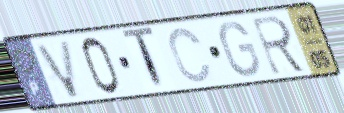0: (81, 34, 123, 97)
C: (167, 25, 213, 85)
G: (218, 19, 263, 79)
R: (248, 13, 310, 78)
T: (119, 25, 169, 93)
V: (32, 37, 82, 101)
